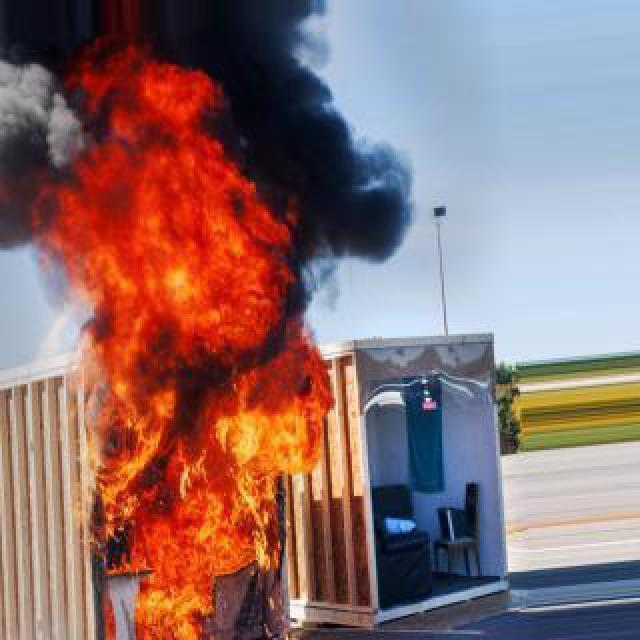Fire: (40, 62, 316, 632)
Smoke: (258, 56, 424, 268), (2, 30, 100, 280)
